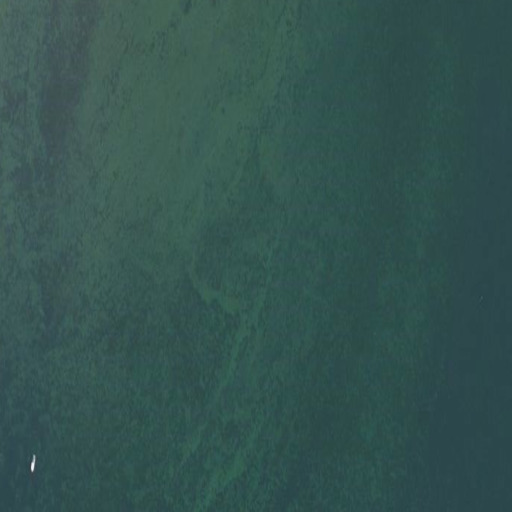ship: (29, 454, 37, 473)
